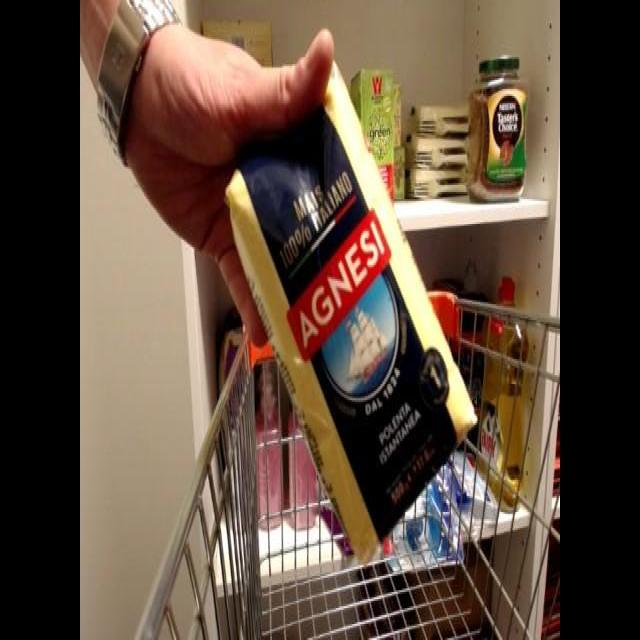Agnesi Polenta: (224, 38, 491, 572)
